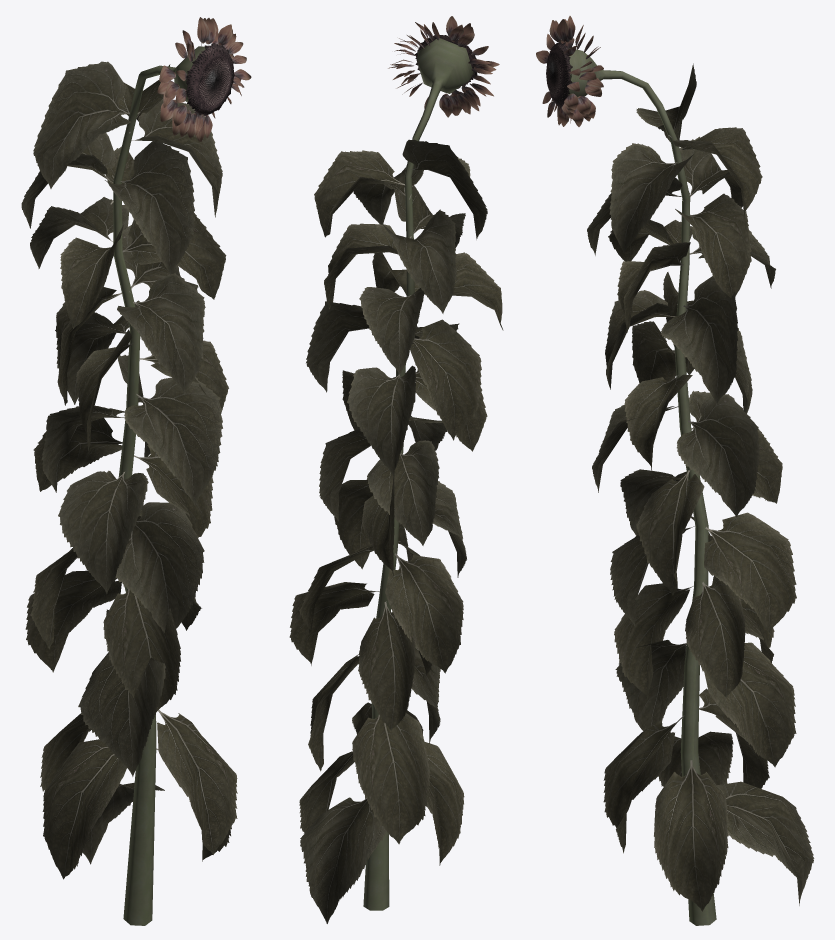
Rendered from Helianthus_Annuus_Autumn_Adult.glb.
3 renders of one model, left to right at view 1: azimuth 30°, elevation 25°; view 2: azimuth 150°, elevation 25°; view 3: azimuth 270°, elevation 25°, orthographic. The views are drawn at different scales.
Parts seen in each view (by area): view 1: Helianthus_Annuus_Autumn_Adult__LOD3; view 2: Helianthus_Annuus_Autumn_Adult__LOD3; view 3: Helianthus_Annuus_Autumn_Adult__LOD3.
Part boxes in pixels (x1=…): Helianthus_Annuus_Autumn_Adult__LOD3: x1=21, y1=17, x2=251, y2=925; Helianthus_Annuus_Autumn_Adult__LOD3: x1=289, y1=16, x2=503, y2=923; Helianthus_Annuus_Autumn_Adult__LOD3: x1=536, y1=16, x2=814, y2=925.
Bounding box in the file's own units: 0.5169 × 2.28 × 0.6597.
Materials: 2 (2 with a texture image).
